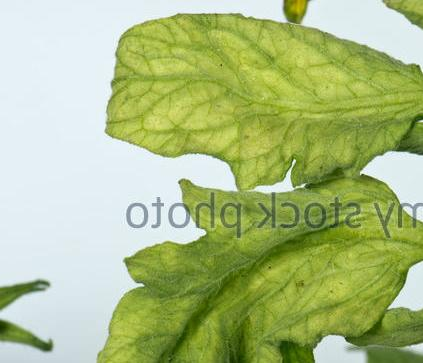Tomato leaf mosaic virus: (25, 158, 423, 363), (86, 19, 423, 194)
